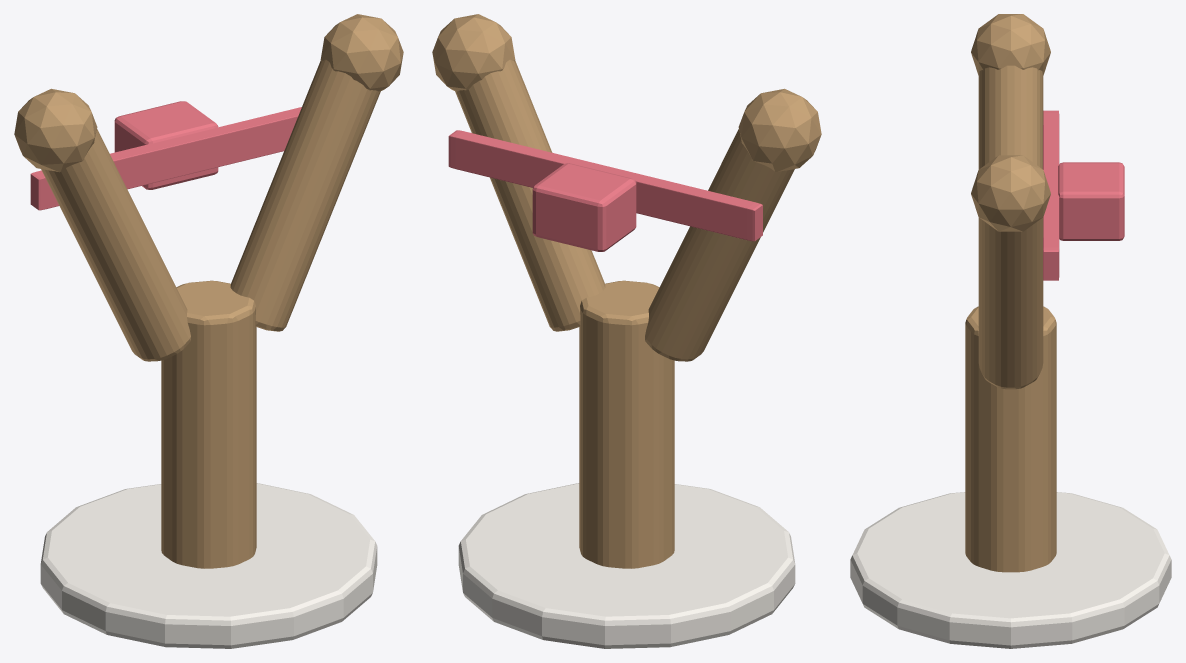
The model's file is LaunchSlingshot.fbx.
3 views of the same model, side by side, from view 1: azimuth 30°, elevation 25°; view 2: azimuth 150°, elevation 25°; view 3: azimuth 270°, elevation 25° (orthographic). The views are drawn at different scales.
Visible parts, largest first — view 1: Wood, Stone, Band; view 2: Wood, Stone, Band; view 3: Wood, Stone, Band.
Boxes of the visible parts, left/top/right/bottom form: Wood: left=14, top=14, right=403, bottom=568; Stone: left=40, top=483, right=377, bottom=648; Band: left=30, top=101, right=301, bottom=210; Wood: left=432, top=14, right=821, bottom=568; Stone: left=458, top=483, right=795, bottom=648; Band: left=448, top=130, right=762, bottom=251; Wood: left=965, top=14, right=1056, bottom=572; Stone: left=850, top=492, right=1171, bottom=648; Band: left=1043, top=110, right=1124, bottom=280.
Size of the model in its own units: 6.14 by 8.2 by 4.8.
